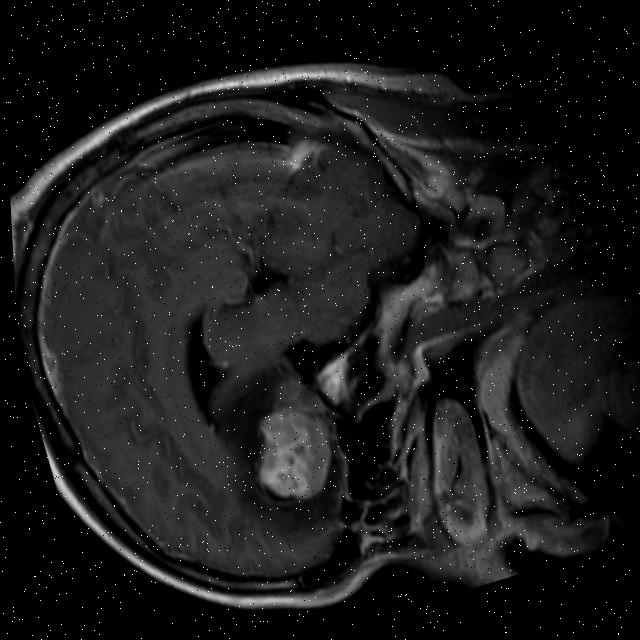Meningioma: (240, 394, 346, 513)
